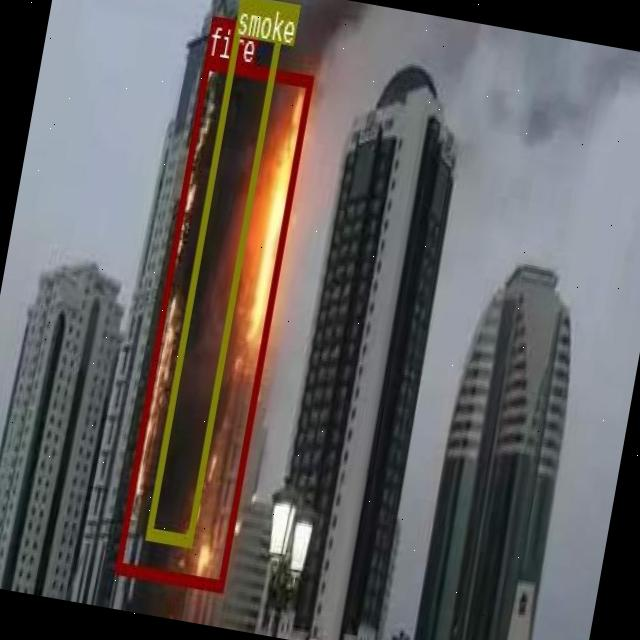fire: (114, 55, 312, 588)
smoke: (145, 0, 285, 543)
